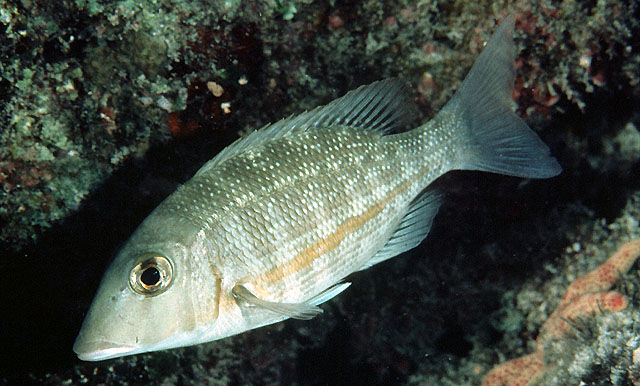fish: (73, 11, 562, 359)
